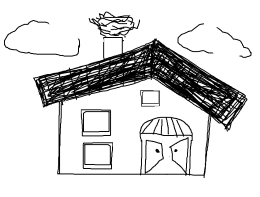clouds: (176, 1, 260, 62), (1, 9, 86, 62)
door: (132, 112, 198, 180)
open_window: (73, 140, 120, 172), (77, 106, 117, 138), (136, 86, 167, 112)
shaded_roof: (17, 38, 256, 131)
smoking_chimney: (88, 2, 141, 60)
wall: (54, 92, 218, 185)
